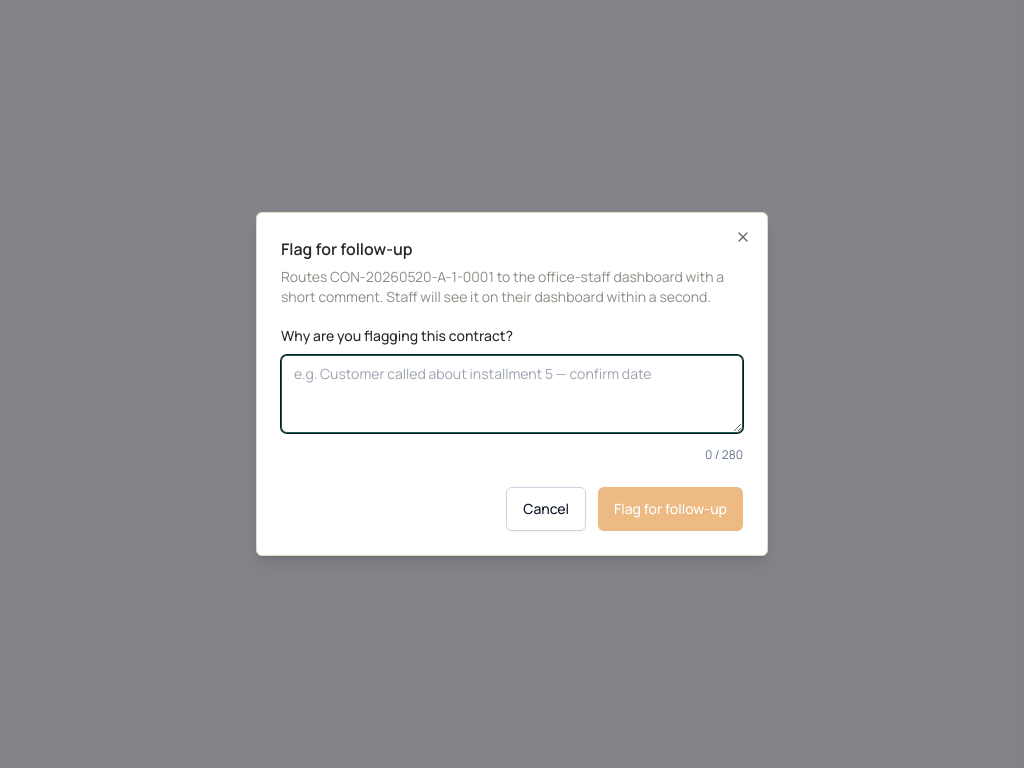
FlagContractDialog › updates the character counter as the user types
Type "Hello" into the text box with test id "flag-contract-reason" at (512, 394), box [281, 355, 743, 433]
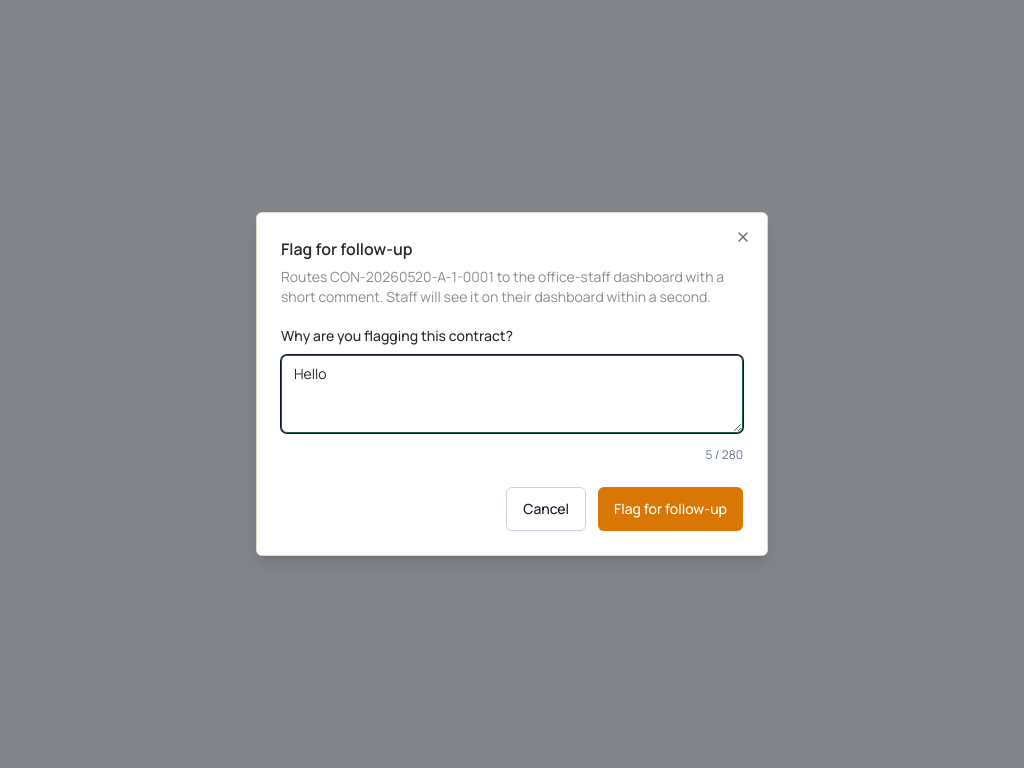
Check: the element with test id "flag-contract-reason-counter" reads "5 / 280", box [706, 446, 743, 463]
